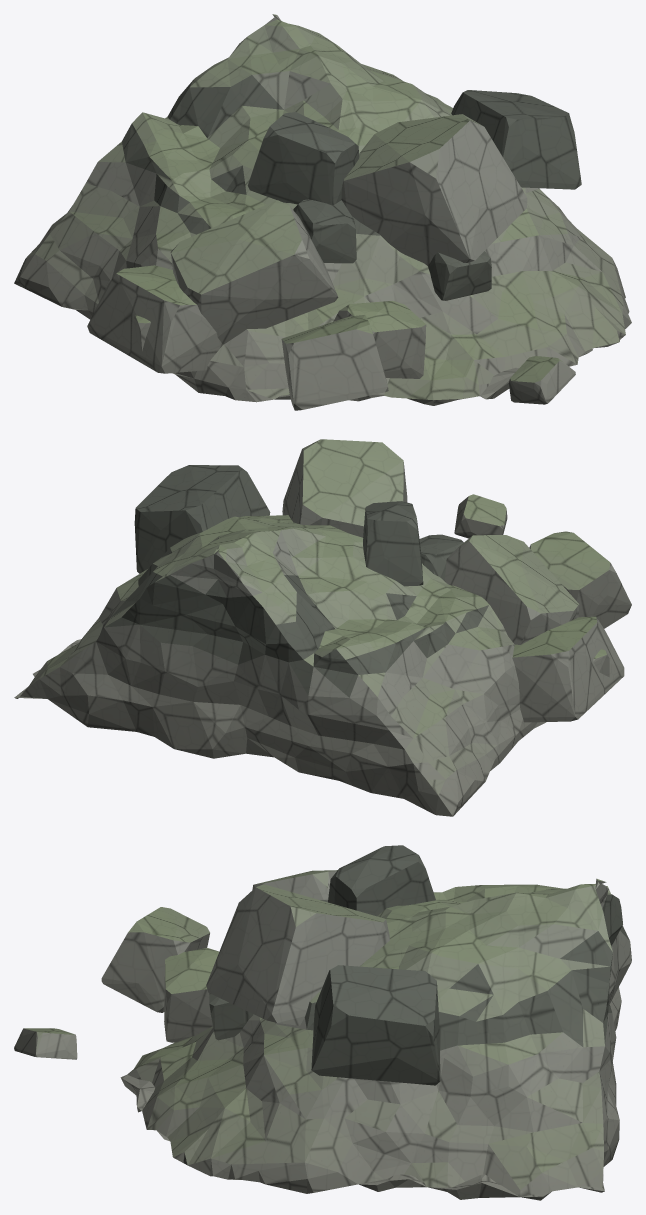
The model's file is scree_b.glb.
3 views of the same model, one above another, from view 1: azimuth 30°, elevation 25°; view 2: azimuth 150°, elevation 25°; view 3: azimuth 270°, elevation 25° (orthographic). The views are drawn at different scales.
Parts seen in each view (by area): view 1: scree_b.001; view 2: scree_b.001; view 3: scree_b.001.
Part boxes in pixels (x1,y1,x2,y2): scree_b.001: (14,14,631,410); scree_b.001: (14,439,631,816); scree_b.001: (14,845,631,1200).
Size of what is drawn, in the model's own units: 6.13 by 2.6 by 6.41.
Materials: 2 (2 with a texture image).
